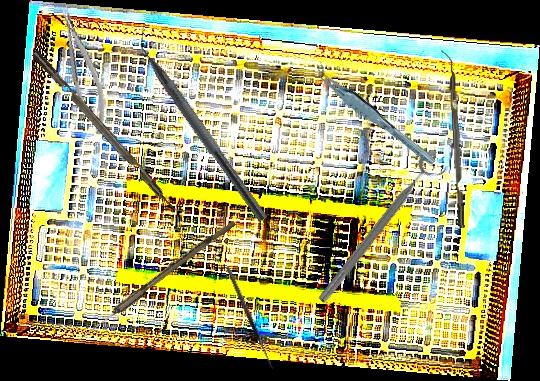Chopper: (123, 20, 281, 223), (31, 42, 192, 223), (441, 49, 465, 229)
Fixation Ring: (313, 145, 454, 314)
Hook Surgical: (224, 263, 281, 371)
Needle Holder: (54, 1, 114, 139)
Surgical Spoon: (73, 216, 236, 348)
Tissue Forceps: (311, 52, 437, 178)
